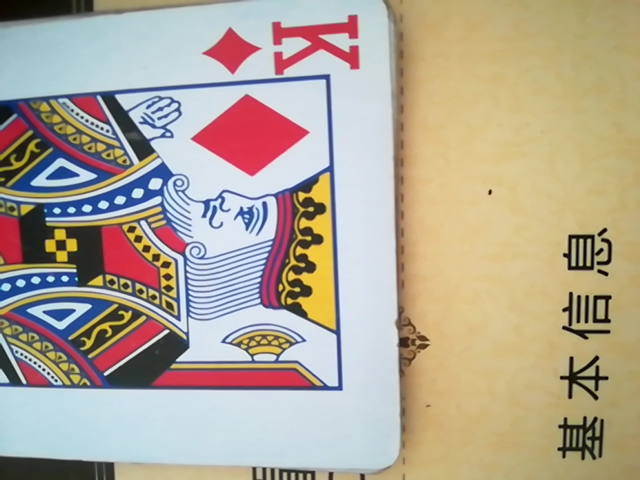fk k: (1, 3, 388, 479)
